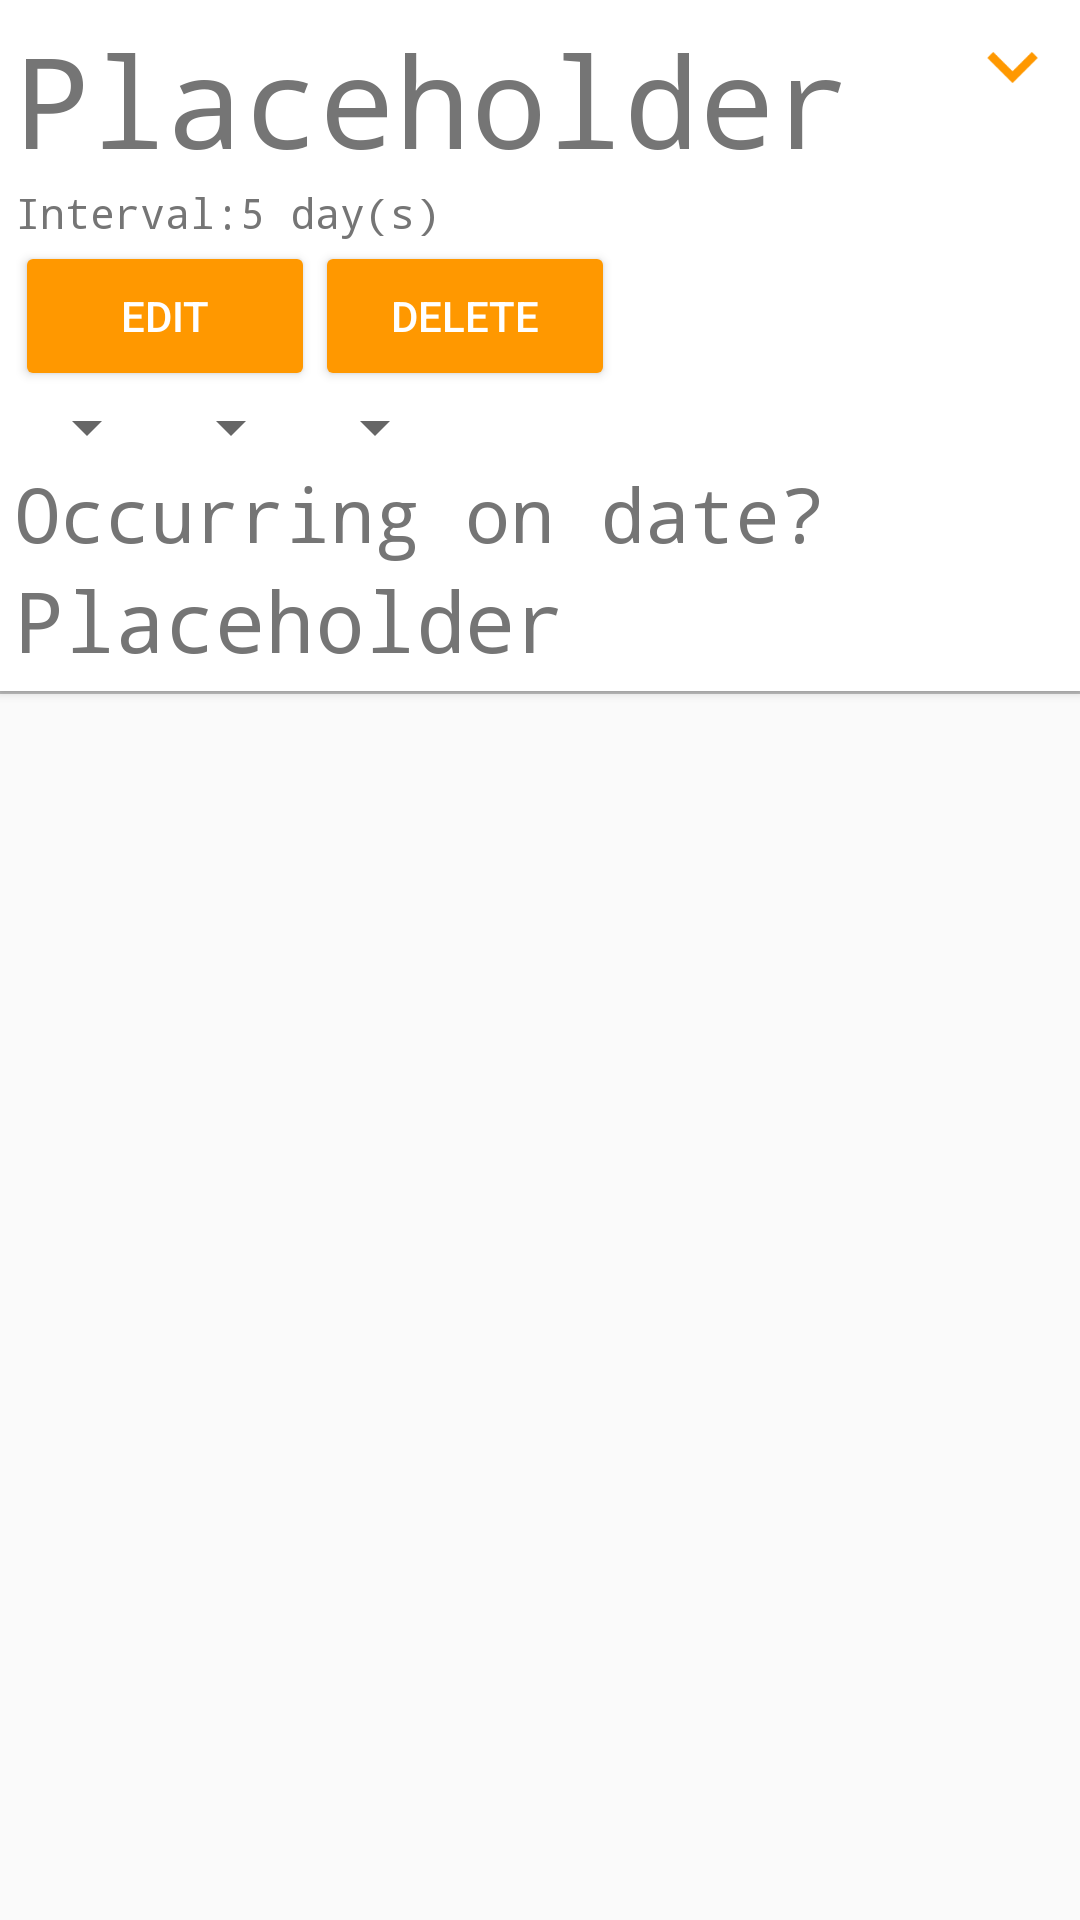

Where icons sit on this 1080w x 1920h app screen, as (left=x1, top=y1, right=x2, bottom=y2):
keyboard arrow down: (left=987, top=52, right=1038, bottom=83)
